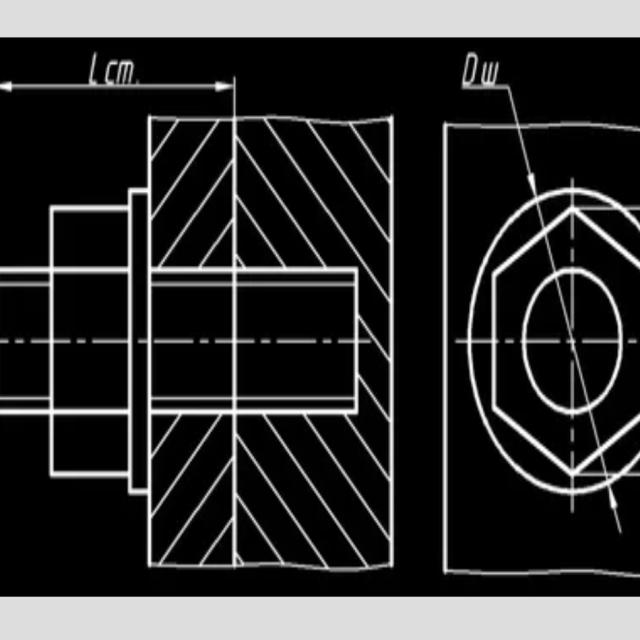marking_line: (0, 69, 240, 113), (515, 128, 539, 197), (607, 487, 625, 539)
